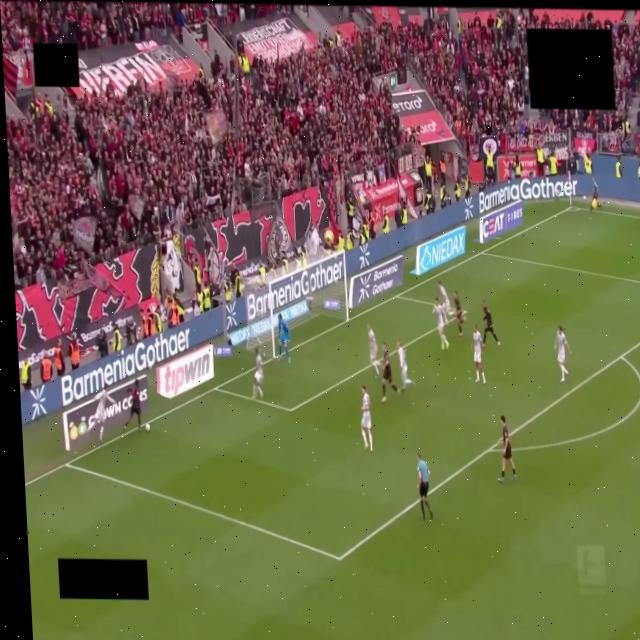ball: (145, 424, 150, 432)
player: (92, 386, 115, 442), (498, 415, 516, 482), (381, 342, 397, 403), (359, 385, 373, 452), (123, 380, 141, 431), (554, 326, 570, 382), (397, 342, 414, 390), (433, 299, 449, 349), (482, 300, 499, 345), (473, 326, 485, 383), (278, 314, 290, 362), (368, 325, 379, 376), (252, 349, 263, 399), (437, 280, 452, 315), (454, 292, 463, 337)
referee: (417, 454, 433, 520)
